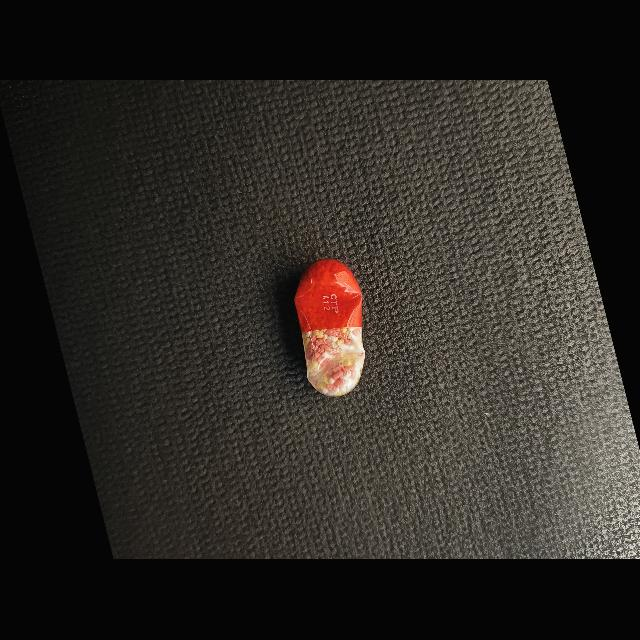Defective Capsule: (294, 259, 365, 397)
